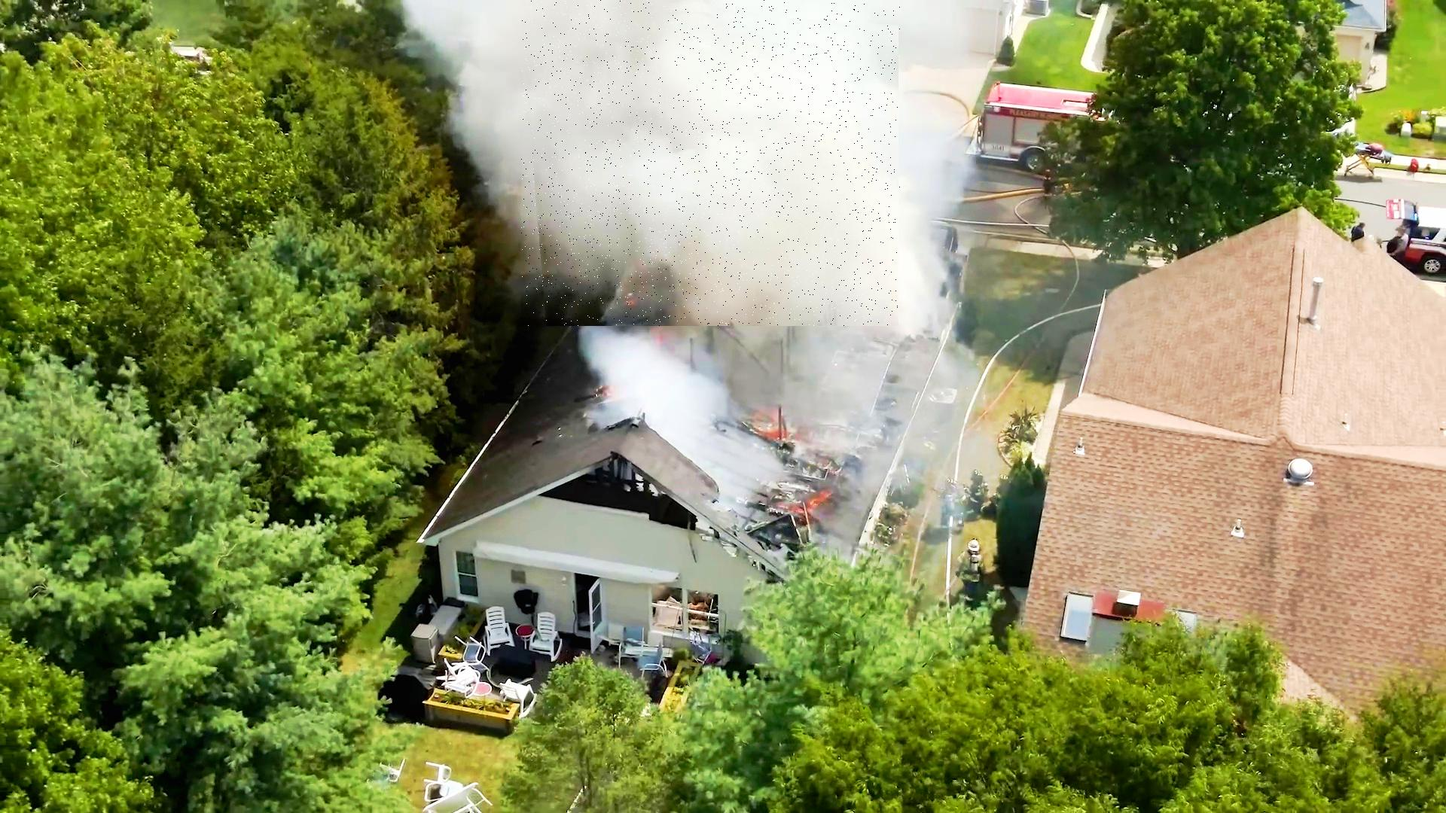smoke: (522, 0, 901, 326)
